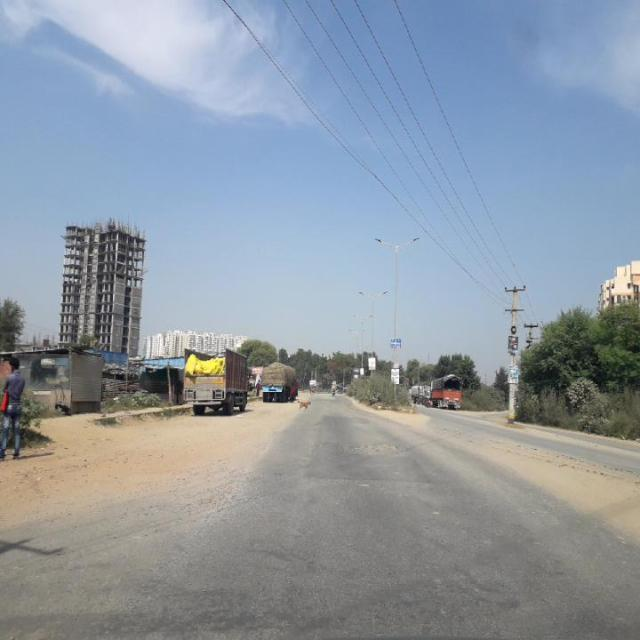Surface Erosion: (115, 377, 640, 618)
